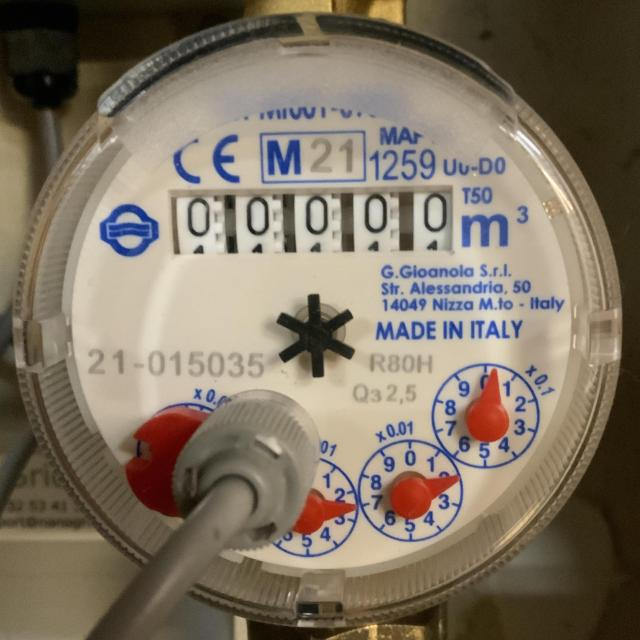gaz_meter: (52, 47, 576, 567)
indication: (167, 185, 458, 258)
